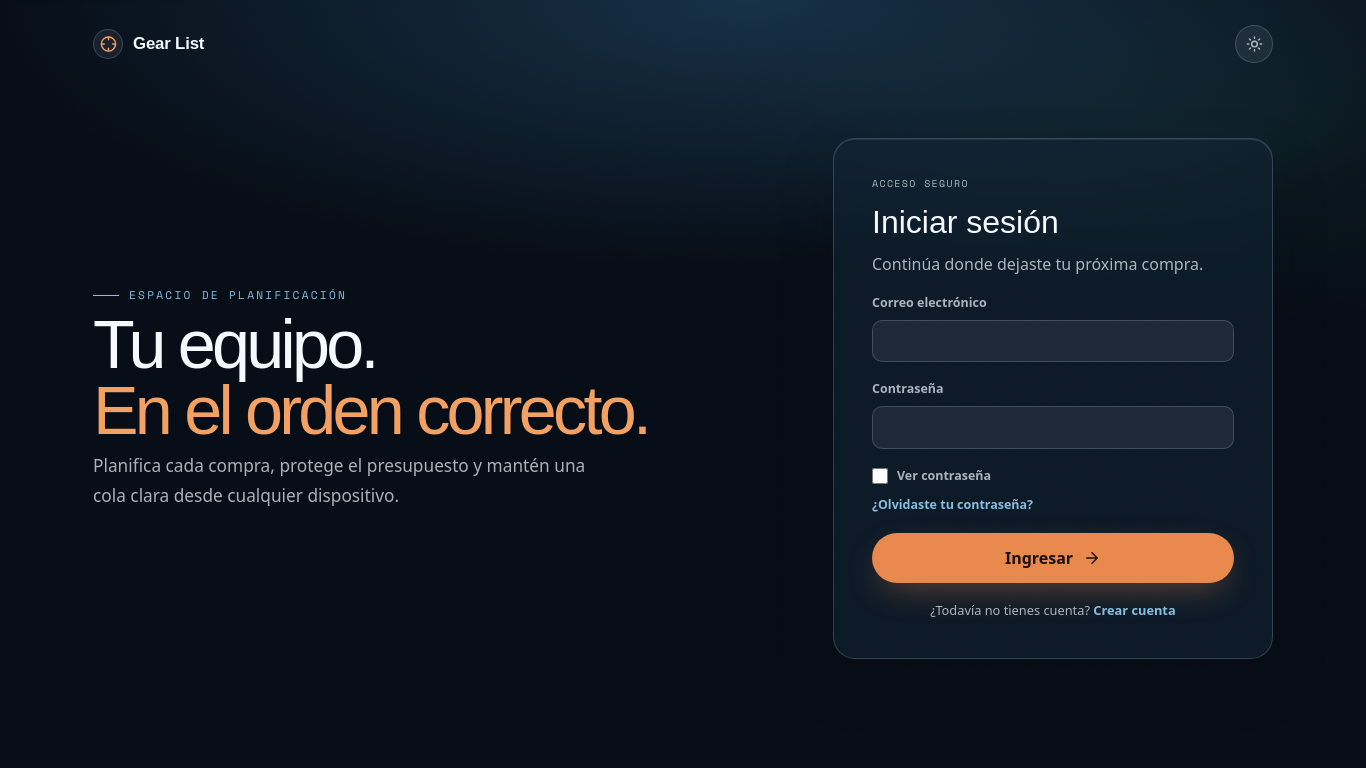
App authentication › shows and hides the login password without clearing it
Type "ClaveVisible123" into the password field labelled "Contraseña" at coordinates (1053, 427), box [872,406,1234,449]
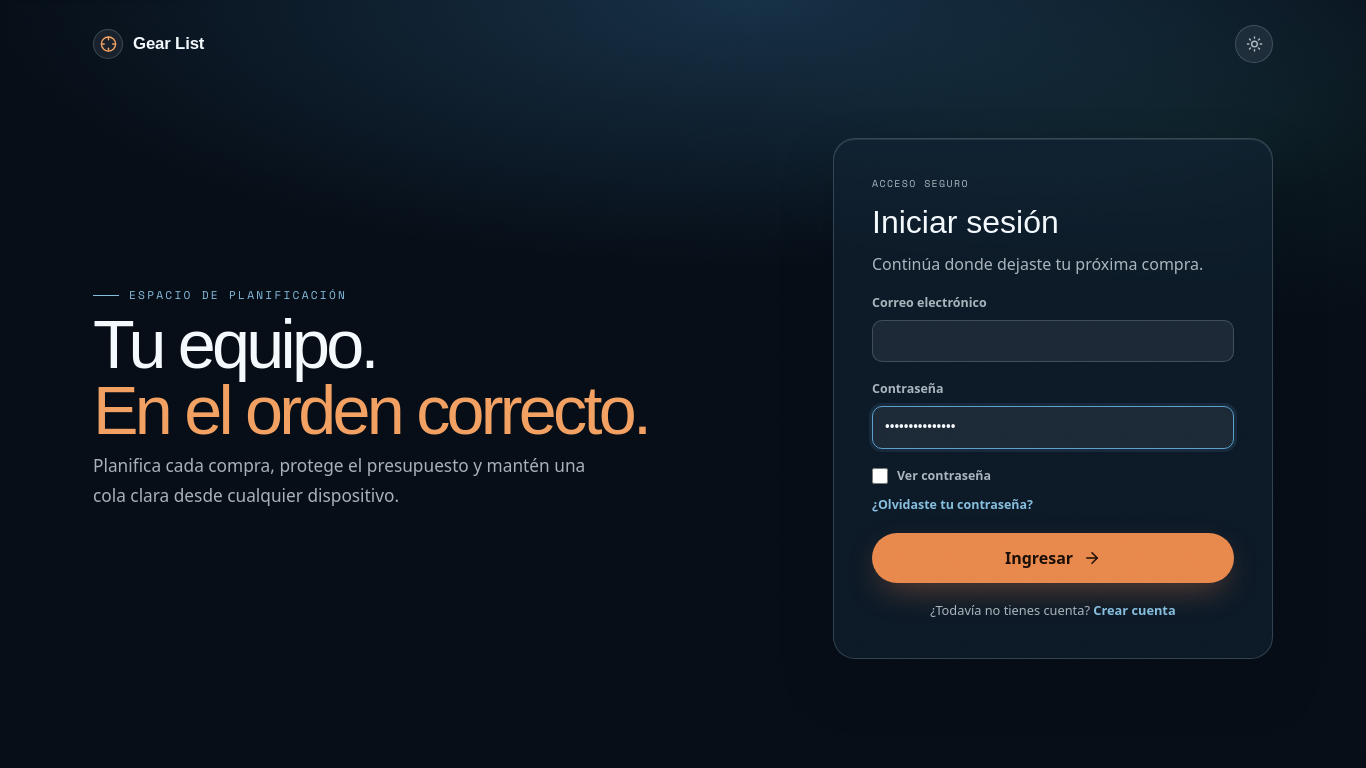
Click the checkbox labelled "Ver contraseña" at coordinates (880, 476), box [872,468,888,484]
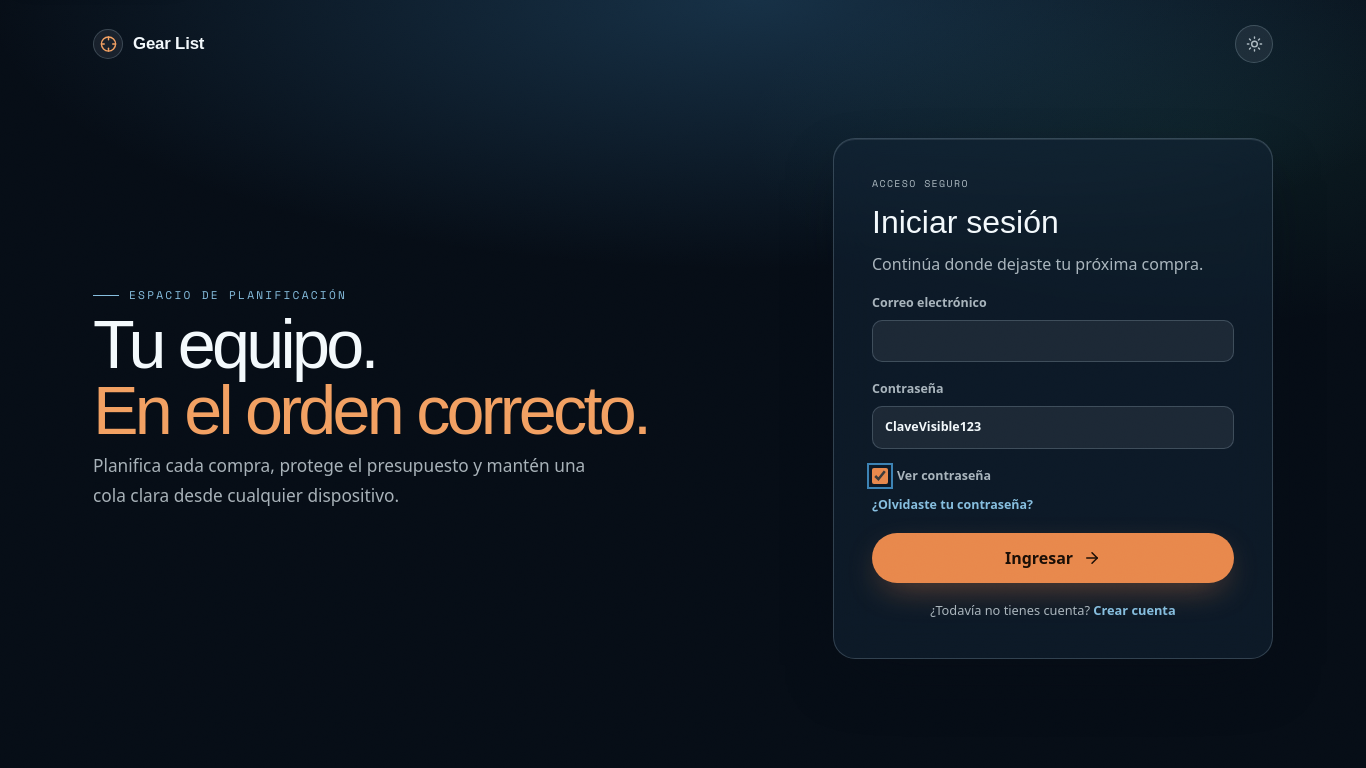
Check: the field labelled "Contraseña" shows its text, box [872,406,1234,449]
Click the checkbox labelled "Ver contraseña" at coordinates (880, 476), box [872,468,888,484]
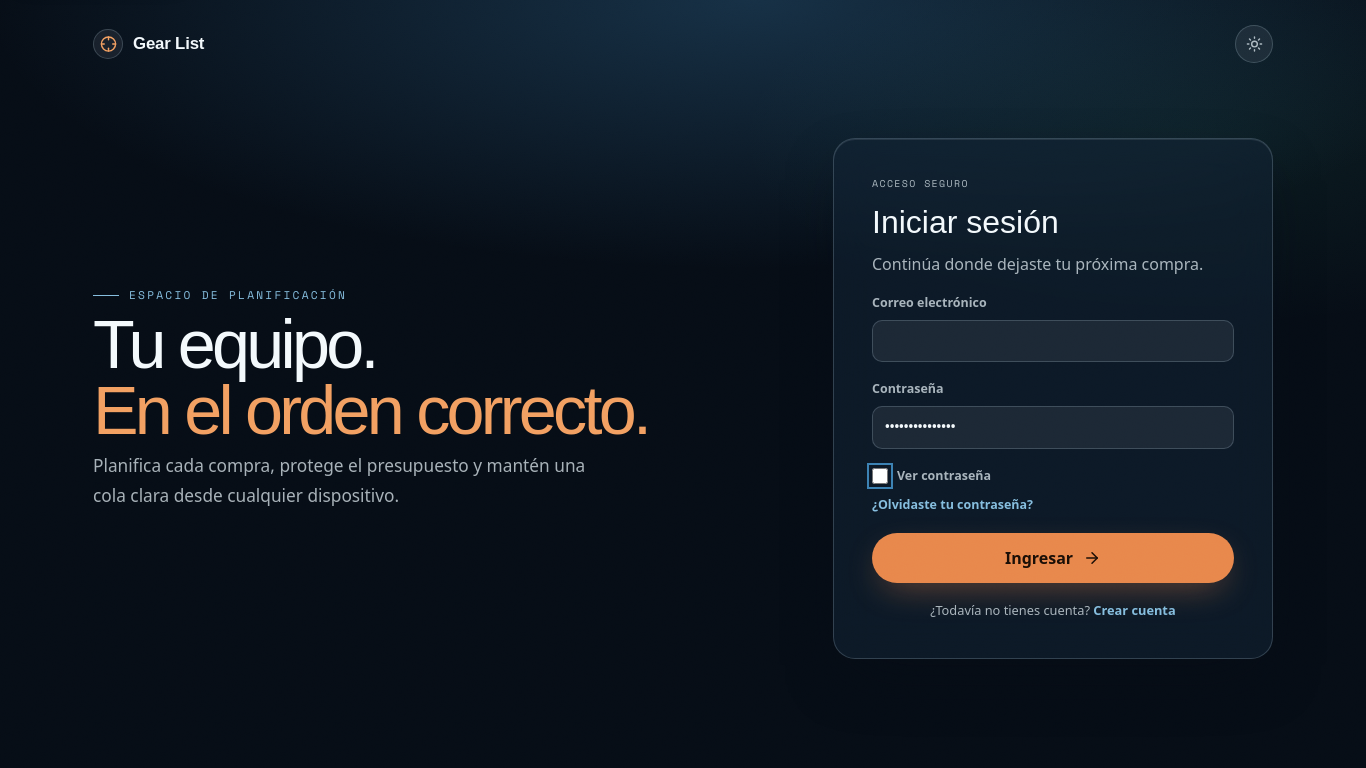
Check: the password field labelled "Contraseña" hides its text, box [872,406,1234,449]
